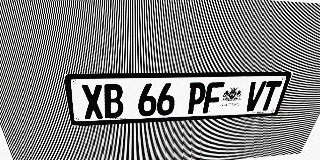6: (156, 83, 177, 116), (138, 83, 158, 117)
B: (102, 84, 124, 118)
F: (202, 82, 225, 113)
P: (185, 82, 207, 114)
T: (258, 81, 282, 111)
V: (243, 81, 267, 112)
X: (80, 84, 104, 119)
